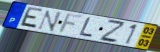1: (124, 24, 138, 45)
E: (18, 6, 45, 30)
F: (56, 12, 86, 35)
L: (78, 16, 94, 38)
N: (36, 10, 63, 33)
Z: (99, 18, 126, 44)
